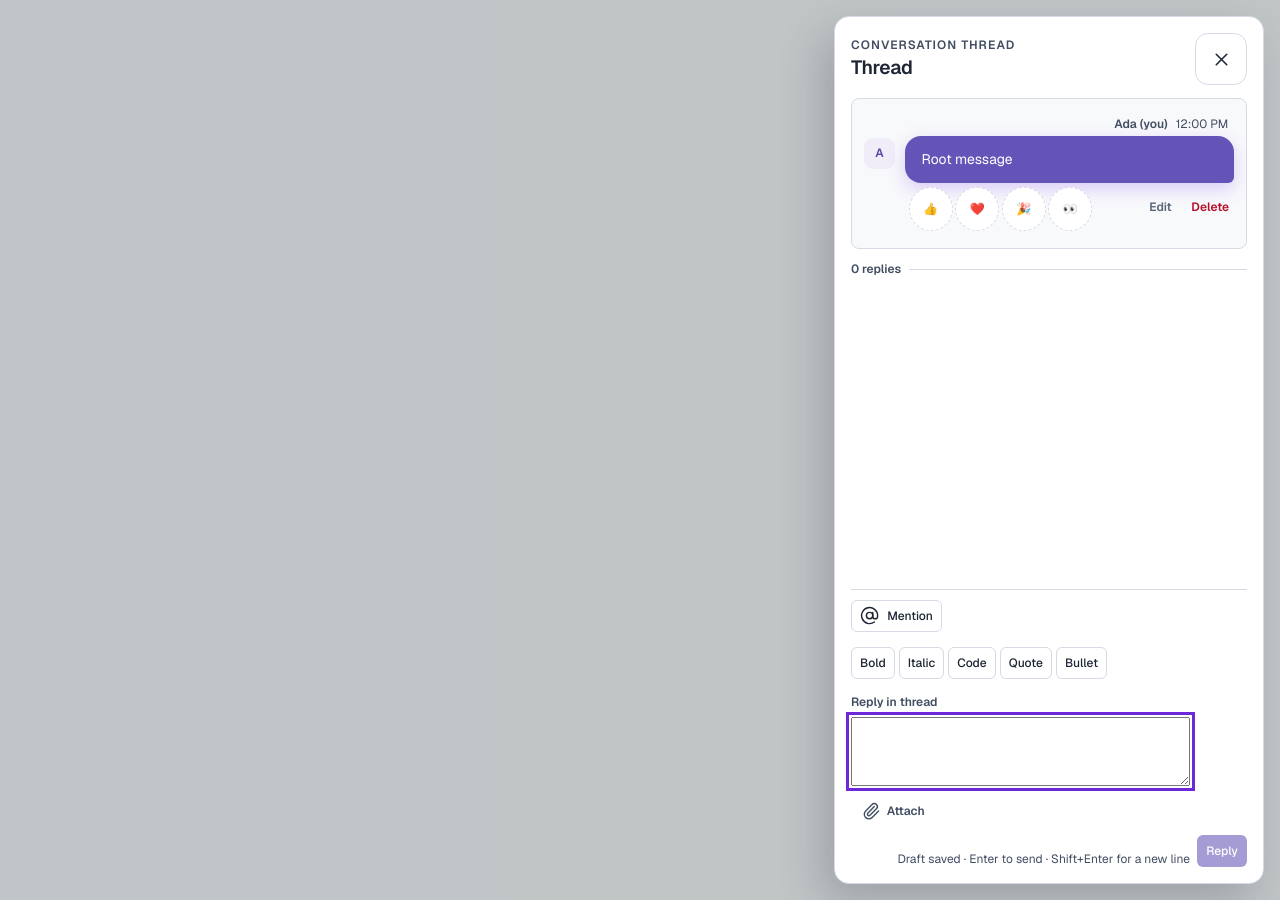
Scenario: ThreadDrawer message controls › requires confirmation before deleting a thread message and reconciles its tombstone
The image size is (1280, 900).
Click the button "Delete". click: (1210, 207)
box: [1186,185,1234,229]
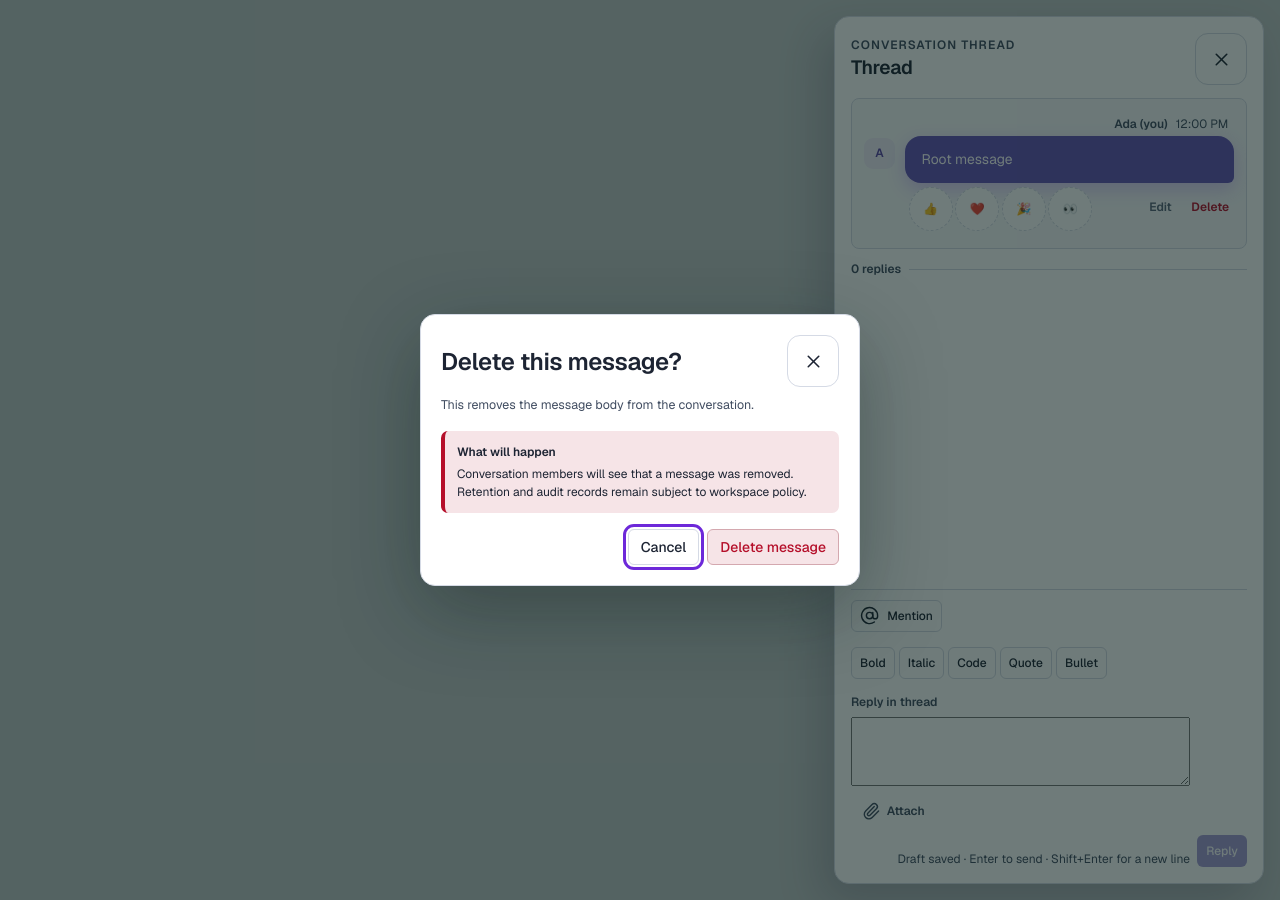
Click the button "Delete message". click: (773, 547)
box: [707,529,839,565]
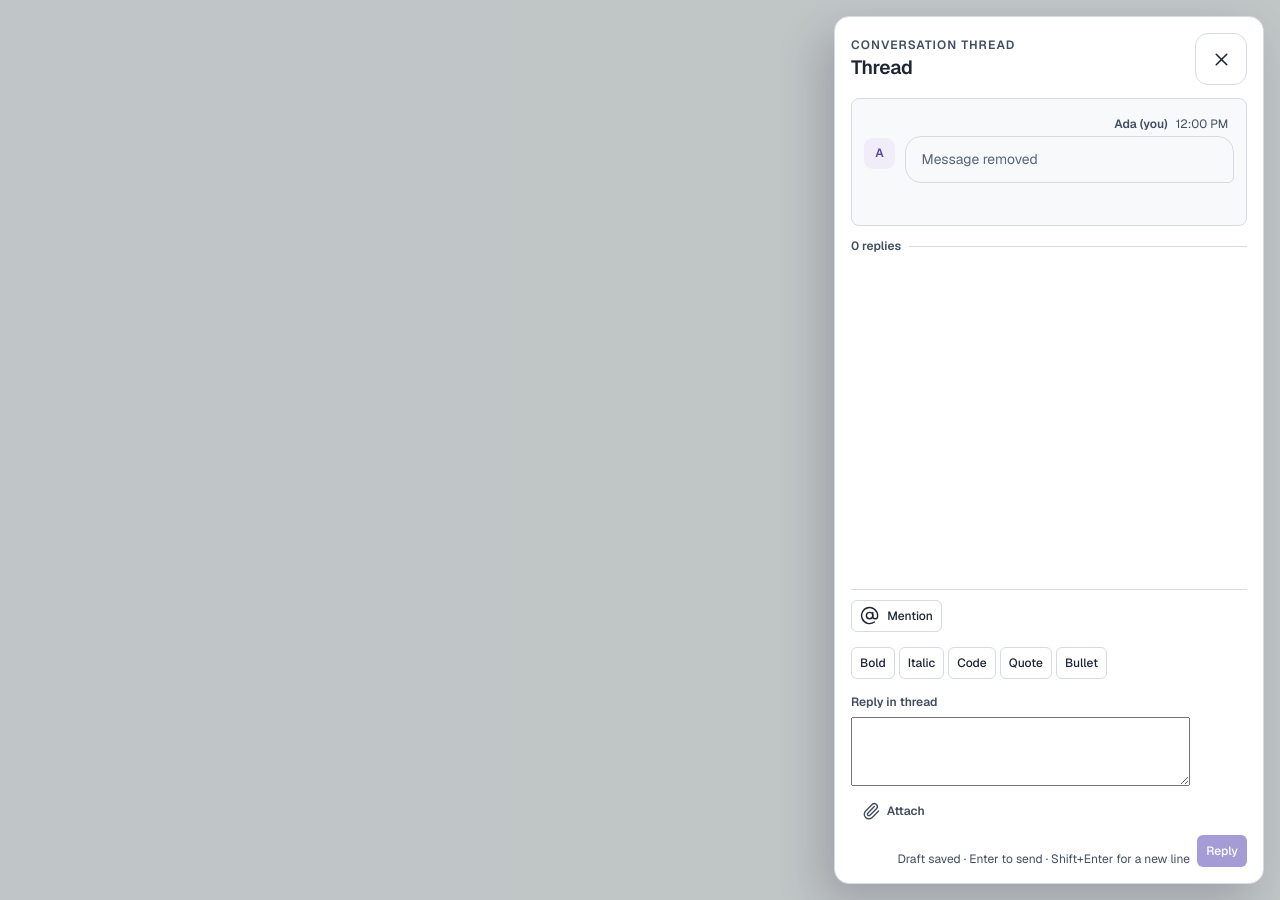
Check: the text "Message removed" is shown, box [905,136,1234,183]
